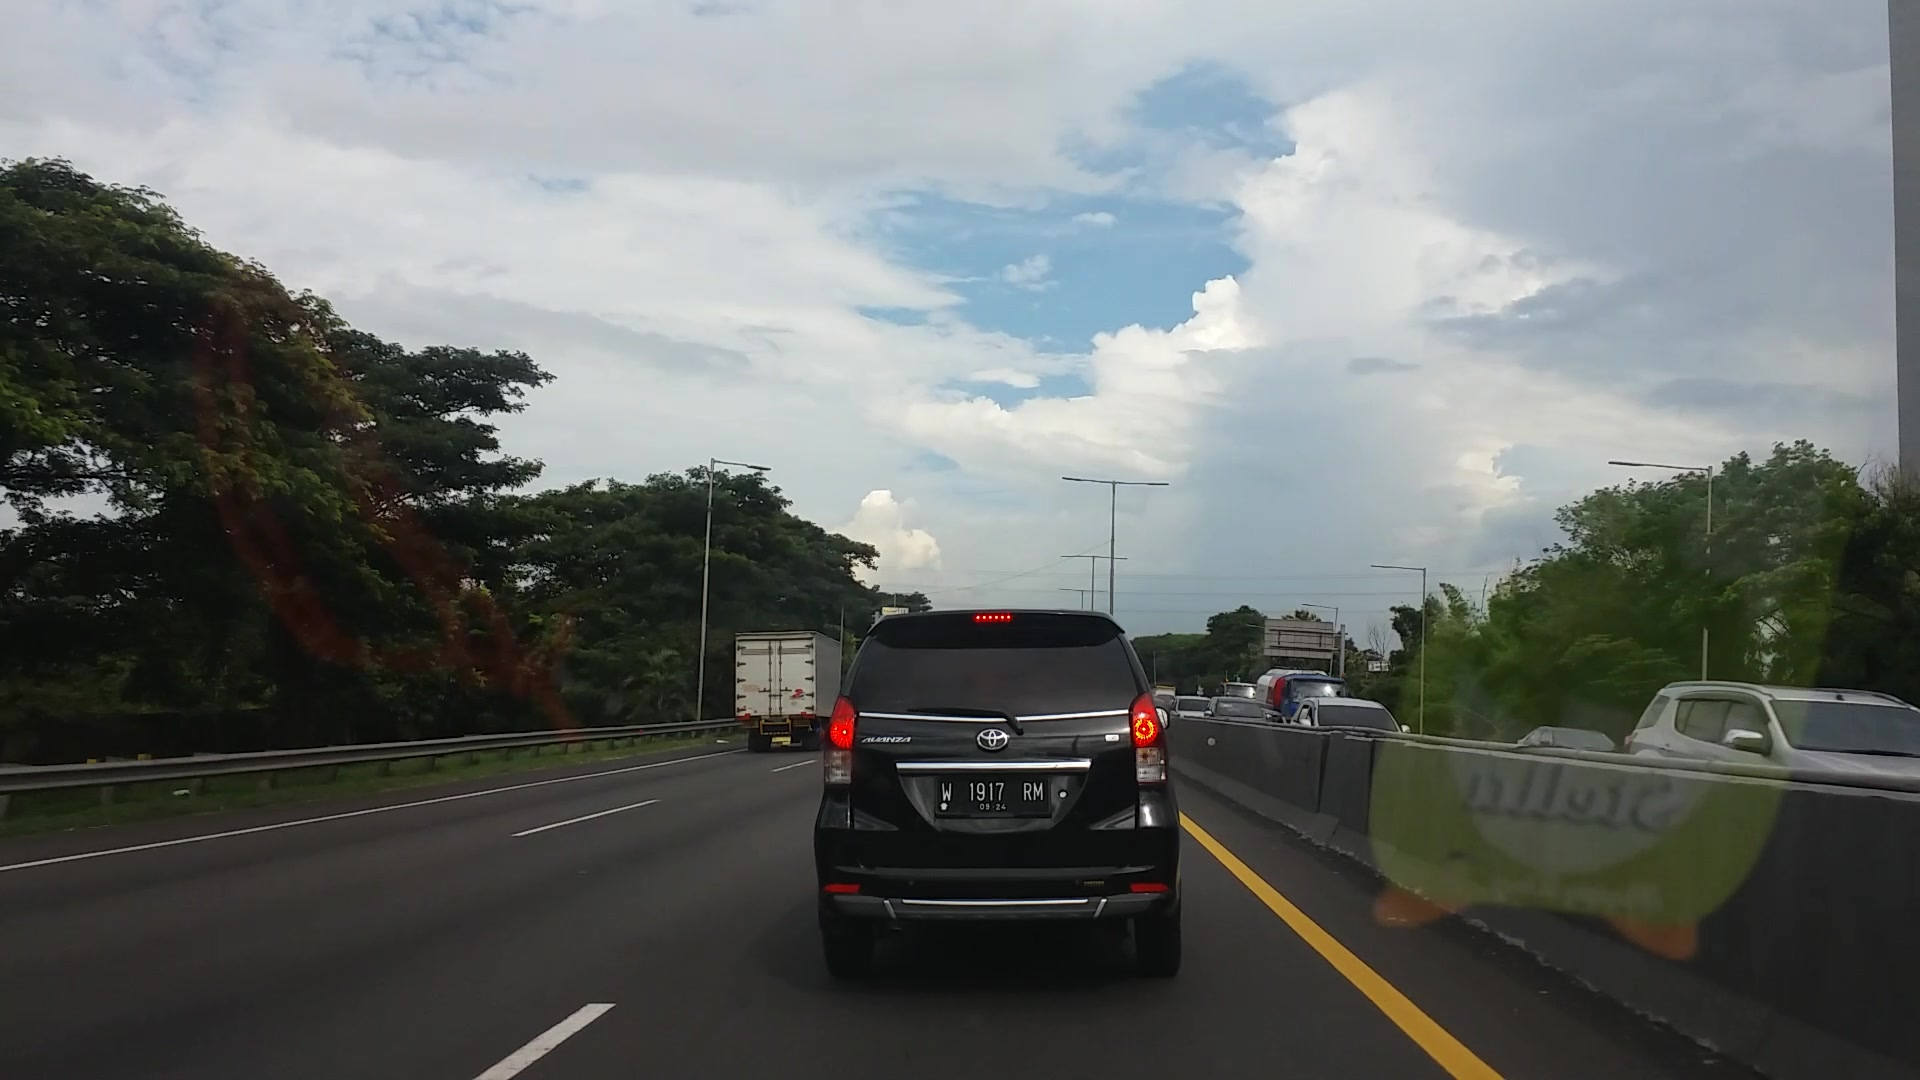plate_positive: (935, 775, 1050, 819)
